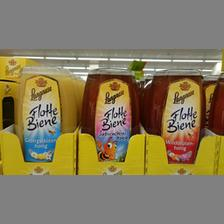Honig: (16, 64, 76, 163), (149, 69, 206, 169), (80, 69, 140, 163)
